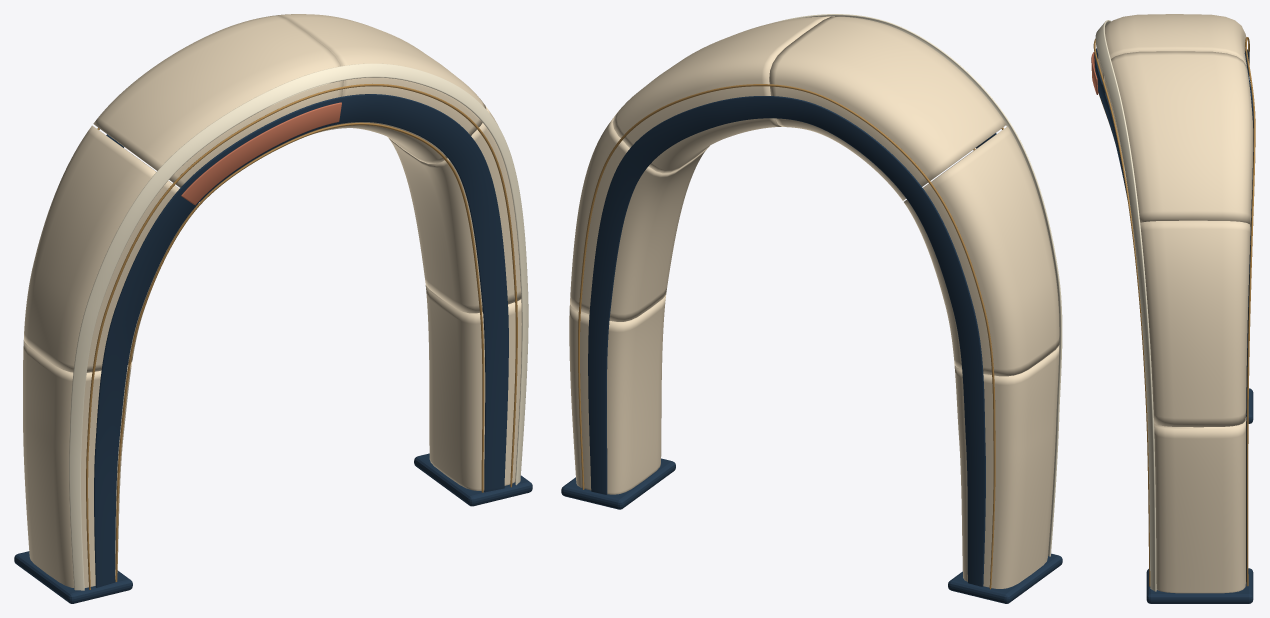
Rendered from sunward-portal.glb.
The picture shows the model from 3 angles, left to right: view 1: azimuth 30°, elevation 25°; view 2: azimuth 150°, elevation 25°; view 3: azimuth 270°, elevation 25°; orthographic projection. The views are drawn at different scales.
Visible parts, largest first — view 1: Sunward sculpted portal; view 2: Sunward sculpted portal; view 3: Sunward sculpted portal.
Boxes of the visible parts, box(x1,y1,x2,y2) form: Sunward sculpted portal: box(14, 14, 532, 603); Sunward sculpted portal: box(561, 14, 1062, 603); Sunward sculpted portal: box(1091, 14, 1255, 603).
Size of the model in its own units: 7.04 by 7.17 by 2.31.
